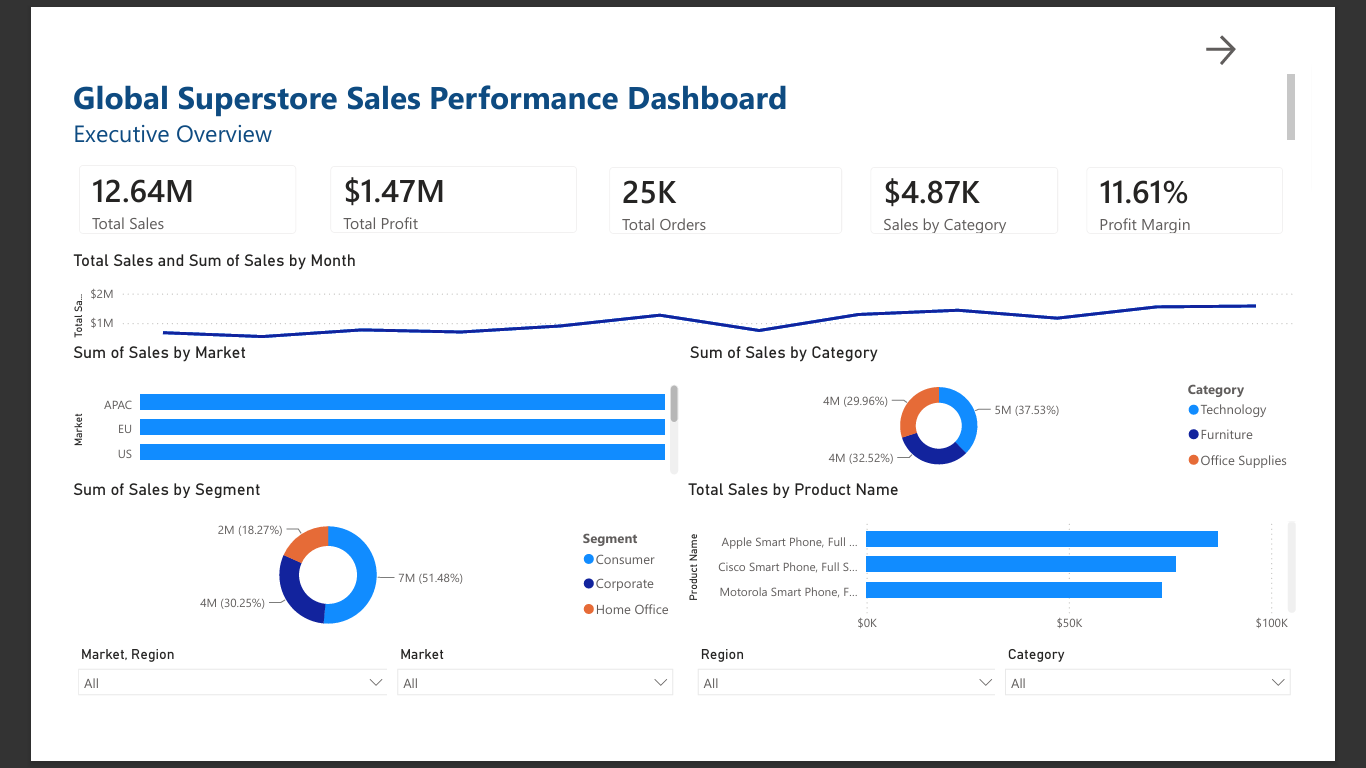

This screenshot's page, from the dashboard's own definition file:
{"tool":"powerbi","page":{"name":"Executive Dashboard","canvas":[1280,720],"ordinal":0},"visuals":[{"type":"textbox","box":[13.8,39.9,1255.2,81.2],"z":0},{"type":"cardVisual","fields":{"Data":["superstore.Total Sales"]},"box":[8.3,119.7,255.6,104.3],"z":1000},{"type":"slicer","fields":{"Values":["superstore.Market","superstore.Region"]},"box":[13.8,622.1,335.8,97.6],"z":1000,"group":"g3"},{"type":"lineChart","fields":{"Category":["Calendar.Month"],"Y":["superstore.Total Sales","Sum(superstore.Sales)"]},"box":[14.3,224.3,1254.3,94.3],"z":2000},{"type":"hundredPercentStackedBarChart","fields":{"Y":["Sum(superstore.Sales)"],"Category":["superstore.Market"]},"box":[13.8,317.9,626.2,139],"z":2000,"group":"g1"},{"type":"cardVisual","fields":{"Data":["superstore.Total Profit"]},"box":[263.9,121.5,285.5,102.9],"z":3000},{"type":"donutChart","fields":{"Y":["Sum(superstore.Sales)"],"Category":["superstore.Category"]},"box":[641.4,317.9,627.6,139],"z":3000,"group":"g1"},{"type":"slicer","fields":{"Values":["superstore.Market"]},"box":[338.3,622.1,301.6,97.6],"z":3000,"group":"g3"},{"type":"cardVisual","fields":{"Data":["superstore.Total Orders"]},"box":[548.3,121.5,271.3,102.9],"z":4000},{"type":"donutChart","fields":{"Y":["Sum(superstore.Sales)"],"Category":["superstore.Segment"]},"box":[13.8,456.9,626.2,165.2],"z":4000,"group":"g2"},{"type":"group","id":"g1","title":"Group 2","box":[13.8,317.9,1255.2,139],"z":5000},{"type":"slicer","fields":{"Values":["superstore.Region"]},"box":[645.2,622.2,325.8,97.6],"z":5000,"group":"g3"},{"type":"cardVisual","fields":{"Data":["superstore.Sales by Category"]},"box":[814.1,122.2,225.8,102.9],"z":6000},{"type":"clusteredBarChart","fields":{"Category":["superstore.Product Name"],"Y":["superstore.Total Sales"]},"box":[640,456.9,629,165.2],"z":6000,"group":"g2"},{"type":"group","id":"g2","title":"Group 3","box":[13.8,456.9,1255.2,165.2],"z":7000},{"type":"slicer","fields":{"Values":["superstore.Category"]},"box":[957.5,622.2,311.6,97.6],"z":7000,"group":"g3"},{"type":"cardVisual","fields":{"Data":["superstore.Profit Margin"]},"box":[1034.2,122.2,234.3,102.9],"z":8000},{"type":"actionButton","box":[1167.1,0,42.7,39.9],"z":9000},{"type":"group","id":"g3","title":"Group 1","box":[13.8,622.1,1255.2,97.7],"z":10000}]}

Visuals, with their boxes in screenshot pixels (x1, y1, x2, y2), scaled from the page's 1280x720 canvas onto the 1366x768 screenshot:
textbox: bbox(15, 43, 1354, 129)
cardVisual - superstore.Total Sales: bbox(9, 128, 282, 239)
slicer - superstore.Market x superstore.Region: bbox(15, 664, 373, 767)
lineChart - Calendar.Month x superstore.Total Sales: bbox(15, 239, 1354, 340)
hundredPercentStackedBarChart - Sum(superstore.Sales) x superstore.Market: bbox(15, 339, 683, 487)
cardVisual - superstore.Total Profit: bbox(282, 130, 586, 239)
donutChart - Sum(superstore.Sales) x superstore.Category: bbox(684, 339, 1354, 487)
slicer - superstore.Market: bbox(361, 664, 683, 767)
cardVisual - superstore.Total Orders: bbox(585, 130, 875, 239)
donutChart - Sum(superstore.Sales) x superstore.Segment: bbox(15, 487, 683, 664)
"Group 2" group: bbox(15, 339, 1354, 487)
slicer - superstore.Region: bbox(689, 664, 1036, 767)
cardVisual - superstore.Sales by Category: bbox(869, 130, 1110, 240)
clusteredBarChart - superstore.Product Name x superstore.Total Sales: bbox(683, 487, 1354, 664)
"Group 3" group: bbox(15, 487, 1354, 664)
slicer - superstore.Category: bbox(1022, 664, 1354, 767)
cardVisual - superstore.Profit Margin: bbox(1104, 130, 1354, 240)
actionButton: bbox(1246, 0, 1291, 43)
"Group 1" group: bbox(15, 664, 1354, 767)
